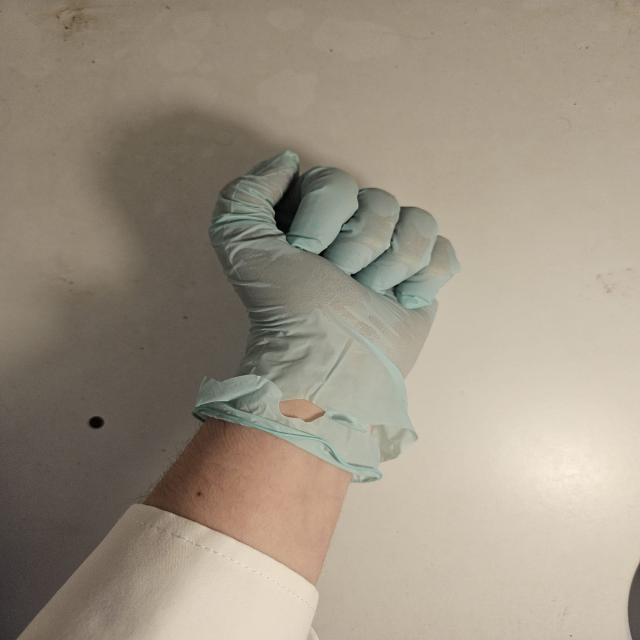gloves_damaged: (189, 147, 457, 482)
